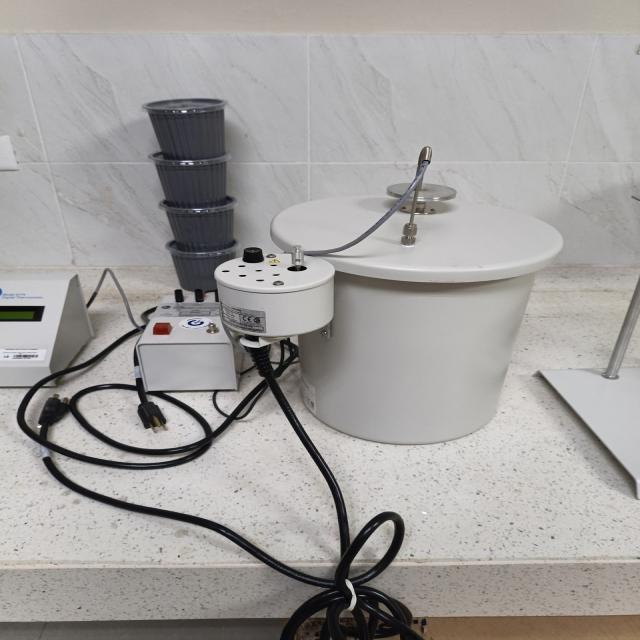Bomba Calorimetrica de Oxigeno: (216, 148, 562, 444)
